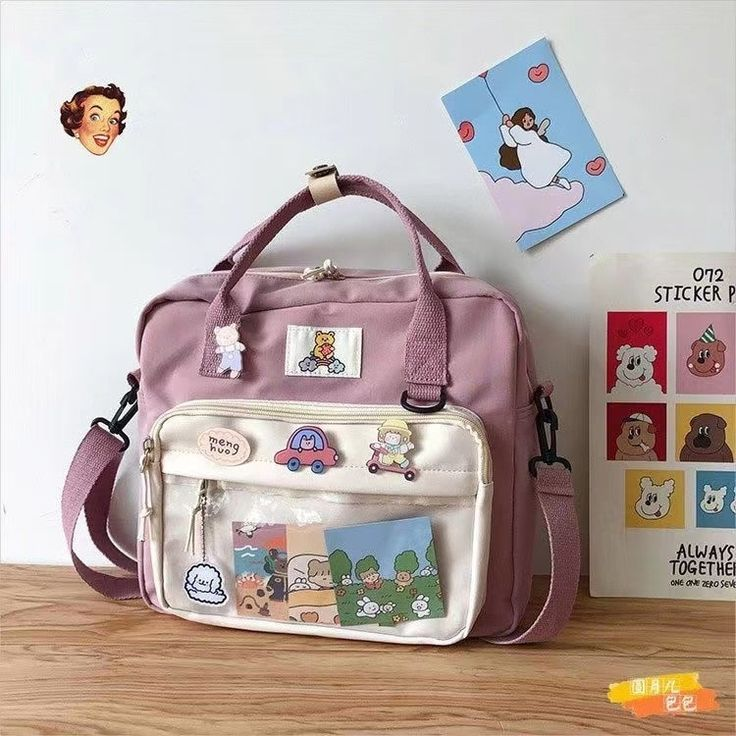nylon: (60, 176, 581, 645)
